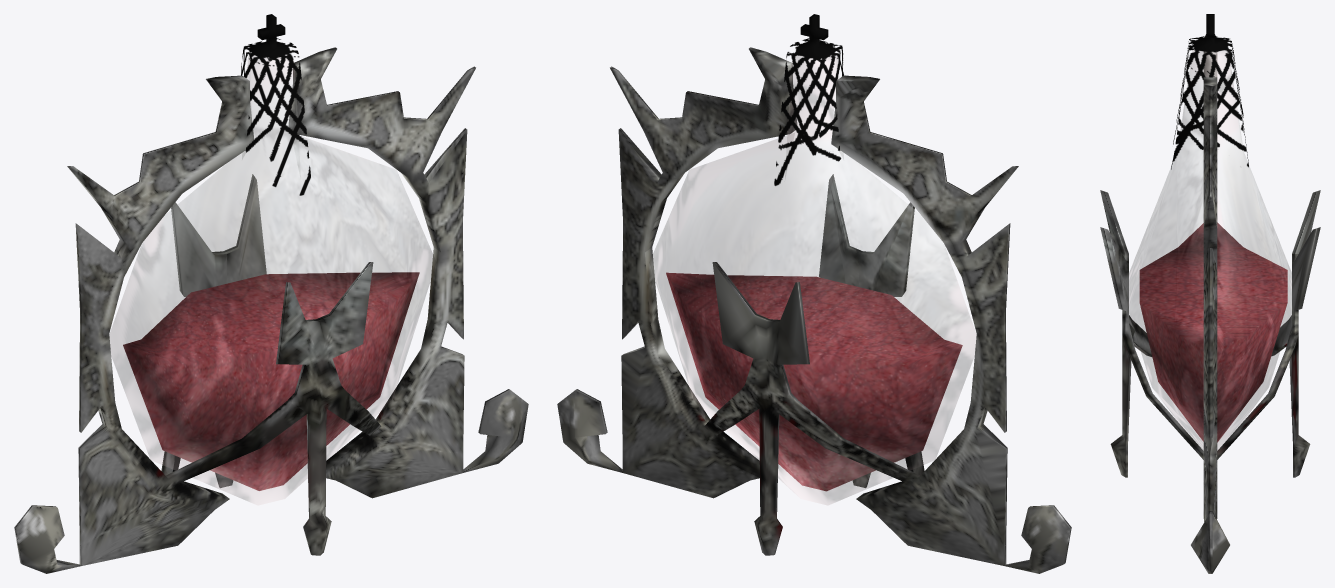
File: Sunbeam Daytona Mono Posto.glb
3 renders of one model, left to right at view 1: azimuth 30°, elevation 25°; view 2: azimuth 150°, elevation 25°; view 3: azimuth 270°, elevation 25°, orthographic. The views are drawn at different scales.
Visible parts, largest first — view 1: cube_NewUVs, cube_NewUVs1_2, cube_NewUVs1_3, cube_NewUVs1_4; view 2: cube_NewUVs, cube_NewUVs1_2, cube_NewUVs1_3, cube_NewUVs1_4; view 3: cube_NewUVs1_2, cube_NewUVs1_3, cube_NewUVs, cube_NewUVs1_4.
Part boxes in pixels (<box>): cube_NewUVs: <box>14,47,528,573</box>; cube_NewUVs1_2: <box>109,55,436,504</box>; cube_NewUVs1_3: <box>123,272,419,490</box>; cube_NewUVs1_4: <box>241,14,310,195</box>; cube_NewUVs: <box>557,47,1071,573</box>; cube_NewUVs1_2: <box>649,56,976,504</box>; cube_NewUVs1_3: <box>666,272,962,491</box>; cube_NewUVs1_4: <box>774,14,843,185</box>; cube_NewUVs1_2: <box>1128,50,1292,449</box>; cube_NewUVs1_3: <box>1139,222,1287,442</box>; cube_NewUVs: <box>1100,34,1320,573</box>; cube_NewUVs1_4: <box>1171,14,1248,169</box>.
Size of the model in its own units: 5.81 by 5.45 by 2.37.
4 materials, 4 textured.
